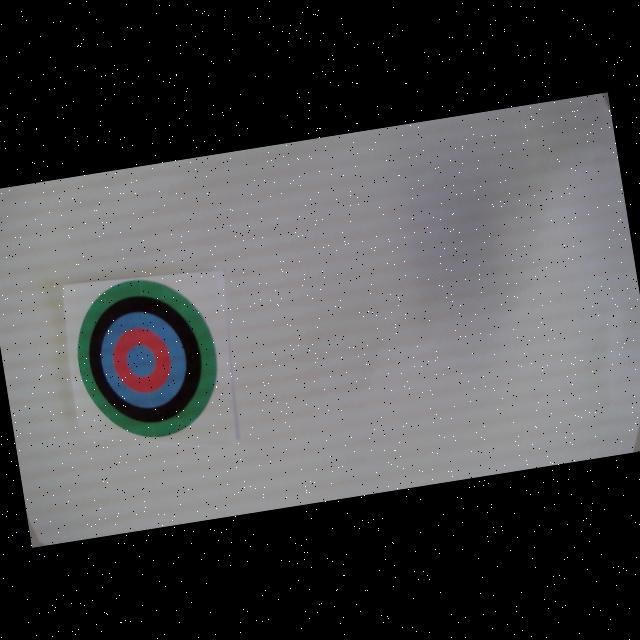COGNITIVE: (66, 268, 229, 448)
